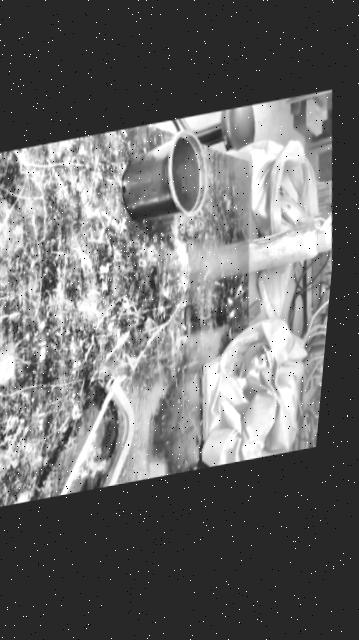pot: (114, 126, 213, 228)
